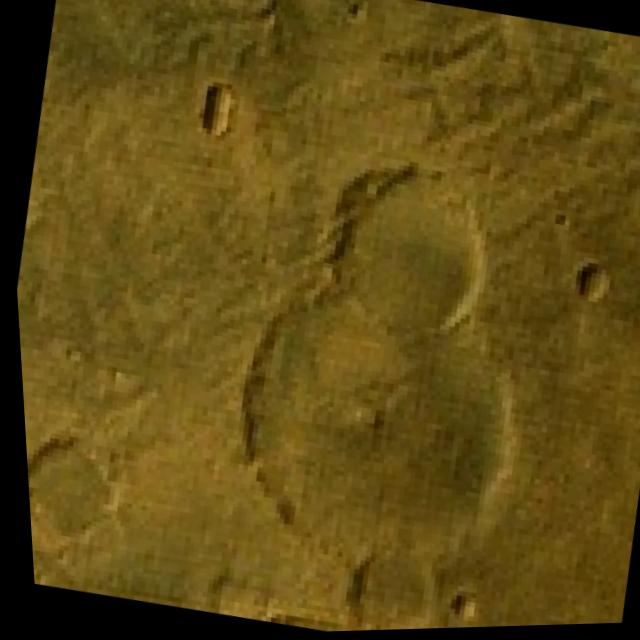Crater: (212, 278, 540, 606), (301, 144, 510, 348), (20, 423, 131, 561)
